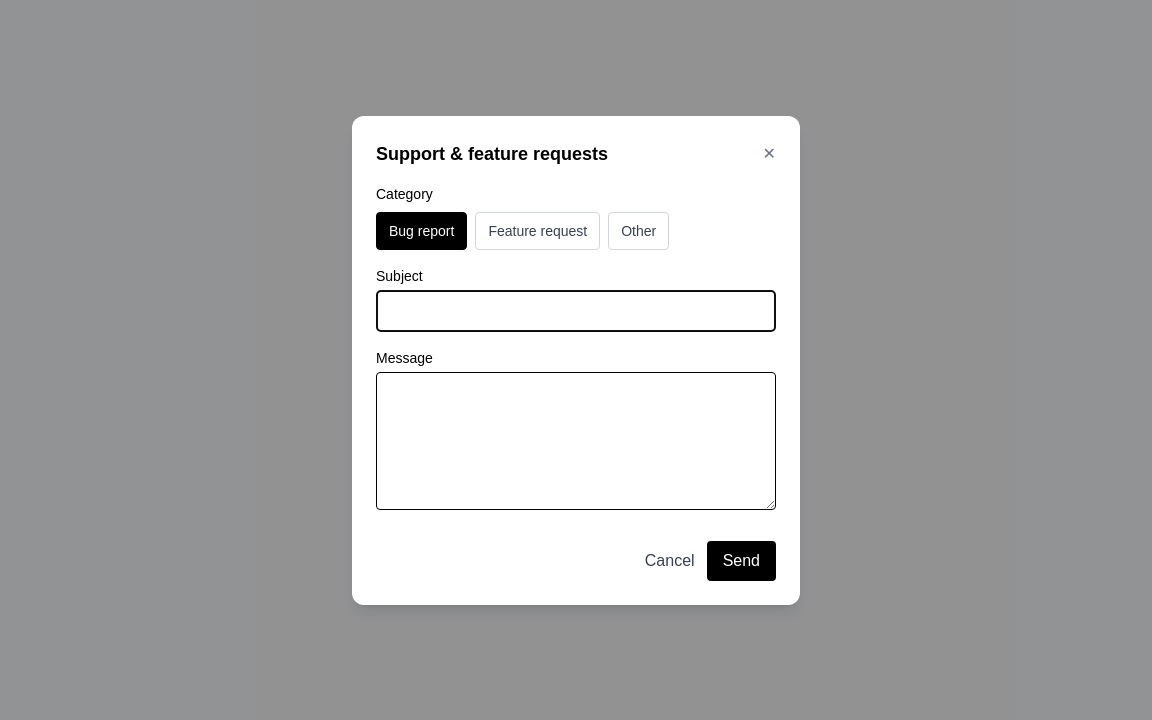
Test: SupportModal › submits the trimmed subject/message with the selected category
Click the button "Feature request" at {"x": 538, "y": 230}, box [475,212,600,250]
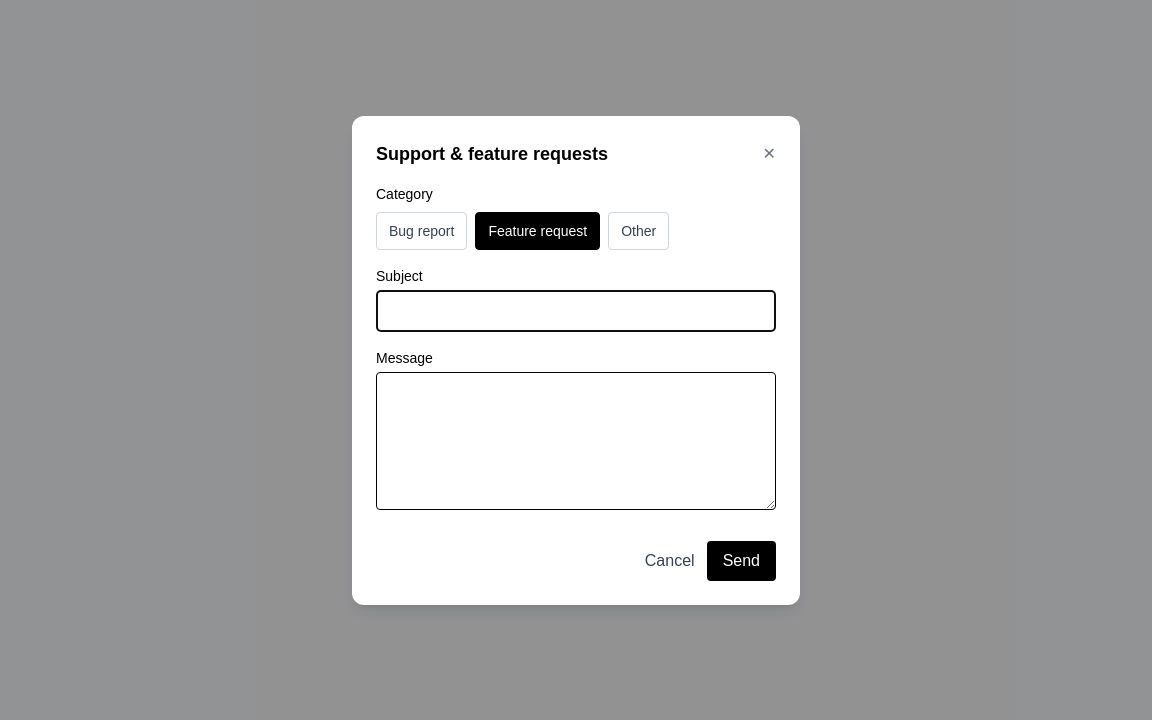
Type "  Add dark mode  " into the field at {"x": 576, "y": 310}, box [376,290,776,332]
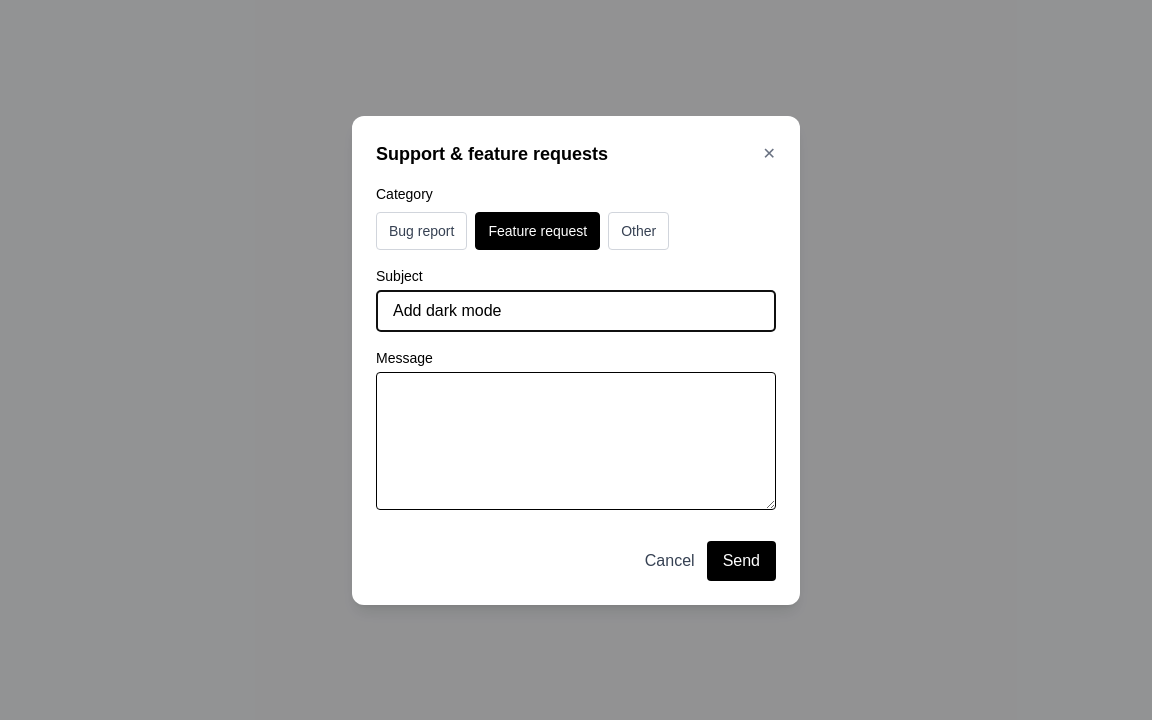
Type "  Would love a dark theme  " into the text box at {"x": 576, "y": 440}, box [376,372,776,510]
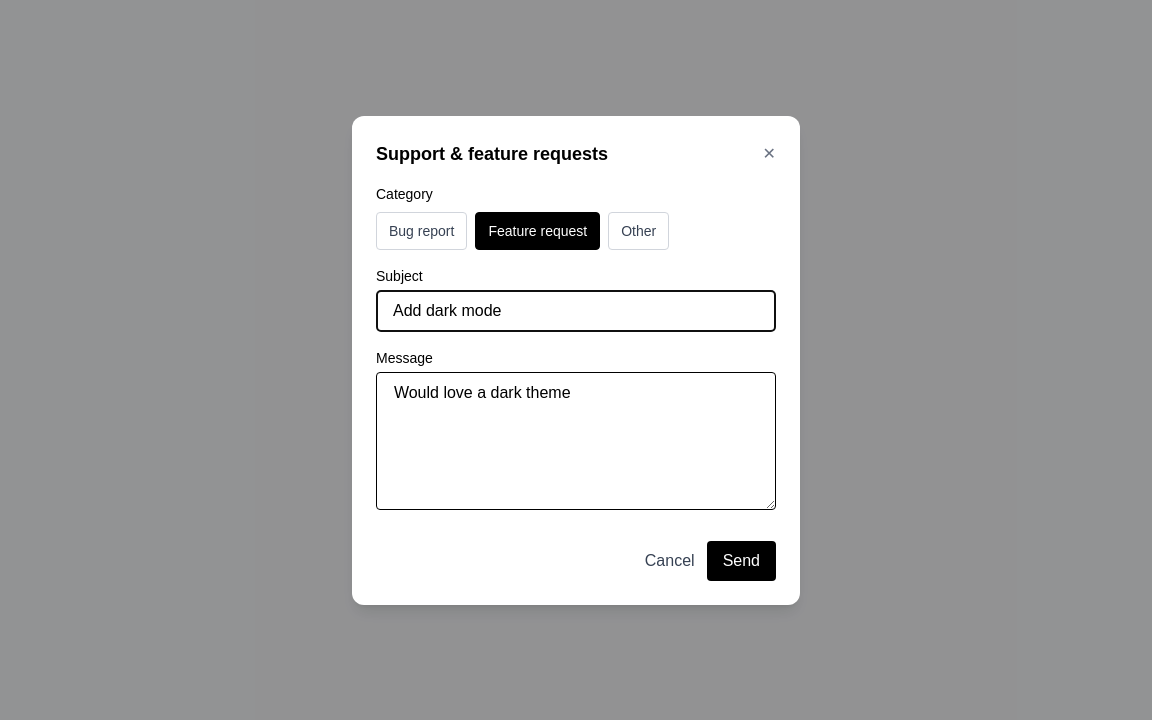
Click the button "Send" at {"x": 741, "y": 560}, box [707,540,776,580]
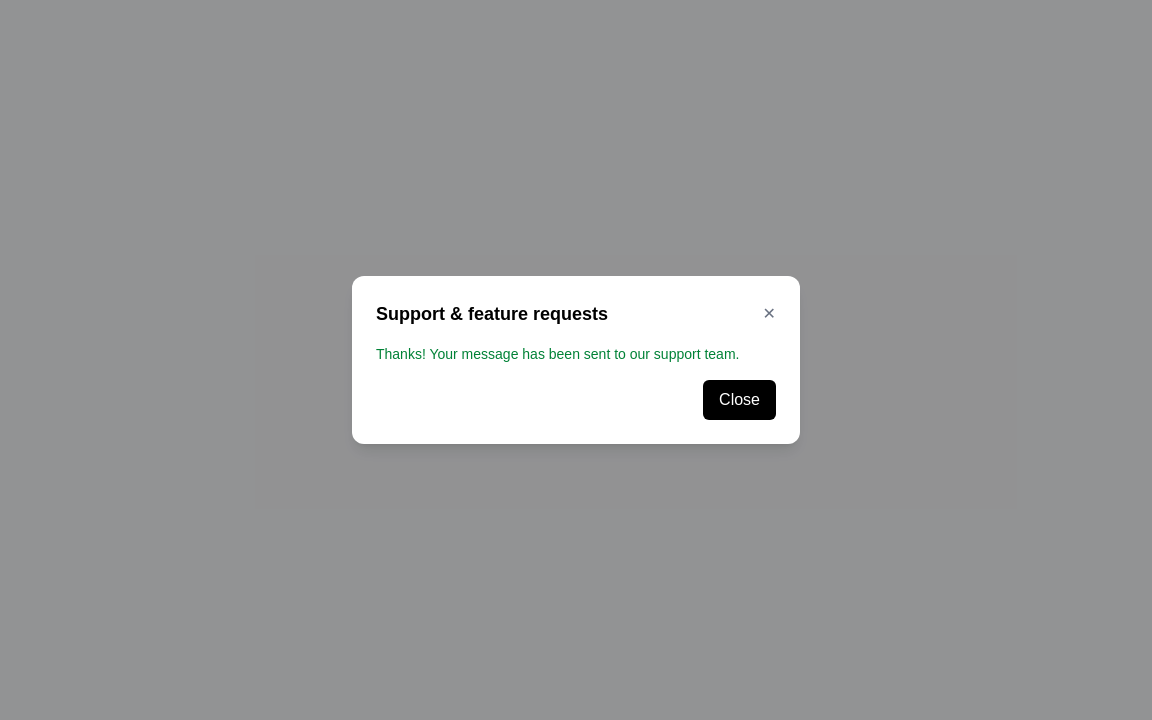
Now the text "Thanks! Your message has been sent to our support team." is shown, box [376,344,776,364]
